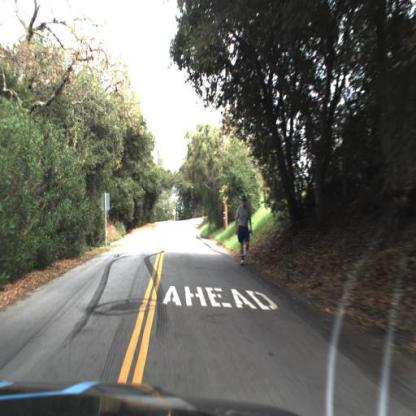pedestrian: (236, 196, 253, 270)
